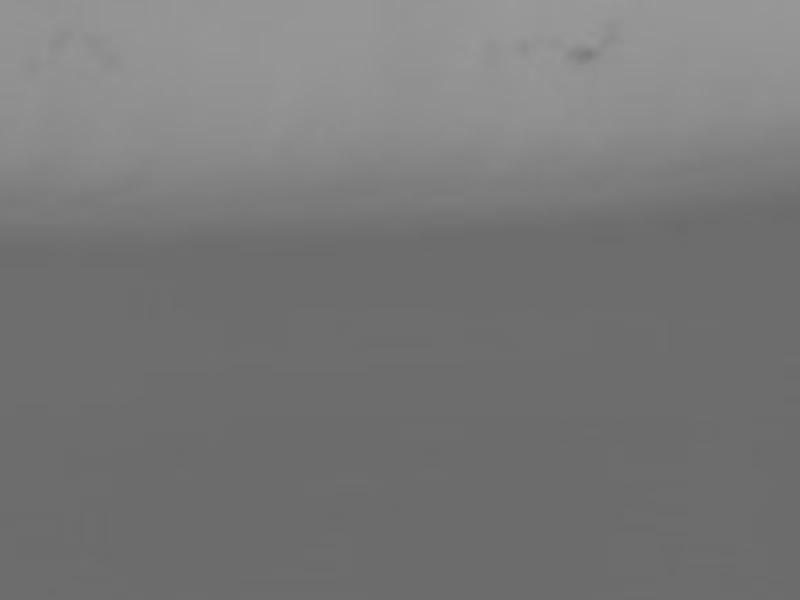defect: (604, 12, 635, 51), (560, 44, 605, 64), (48, 24, 69, 63), (101, 49, 128, 69), (516, 34, 537, 57)
